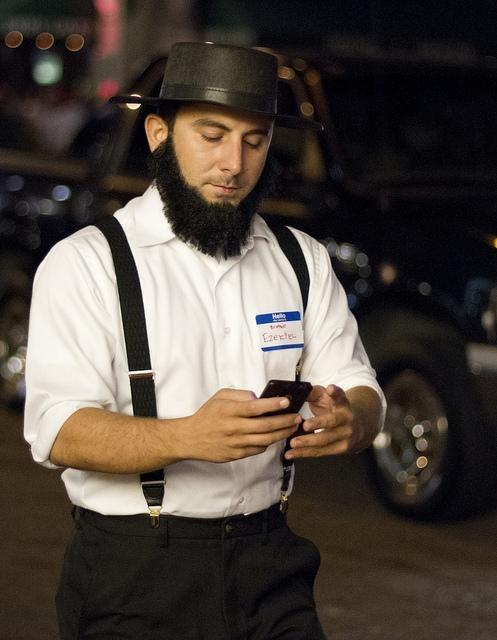car: (296, 205, 497, 537)
